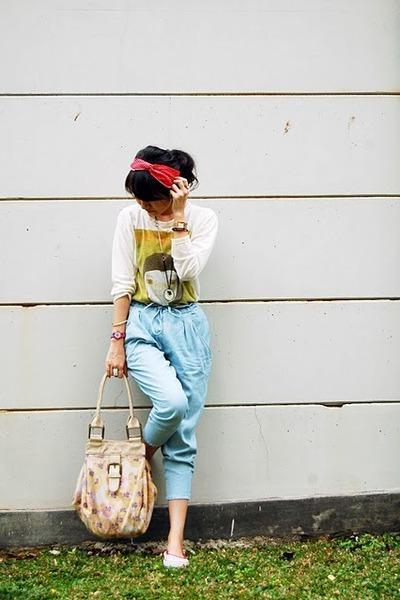long sleeve shirt: (107, 201, 217, 312)
trousers: (117, 304, 217, 503)
